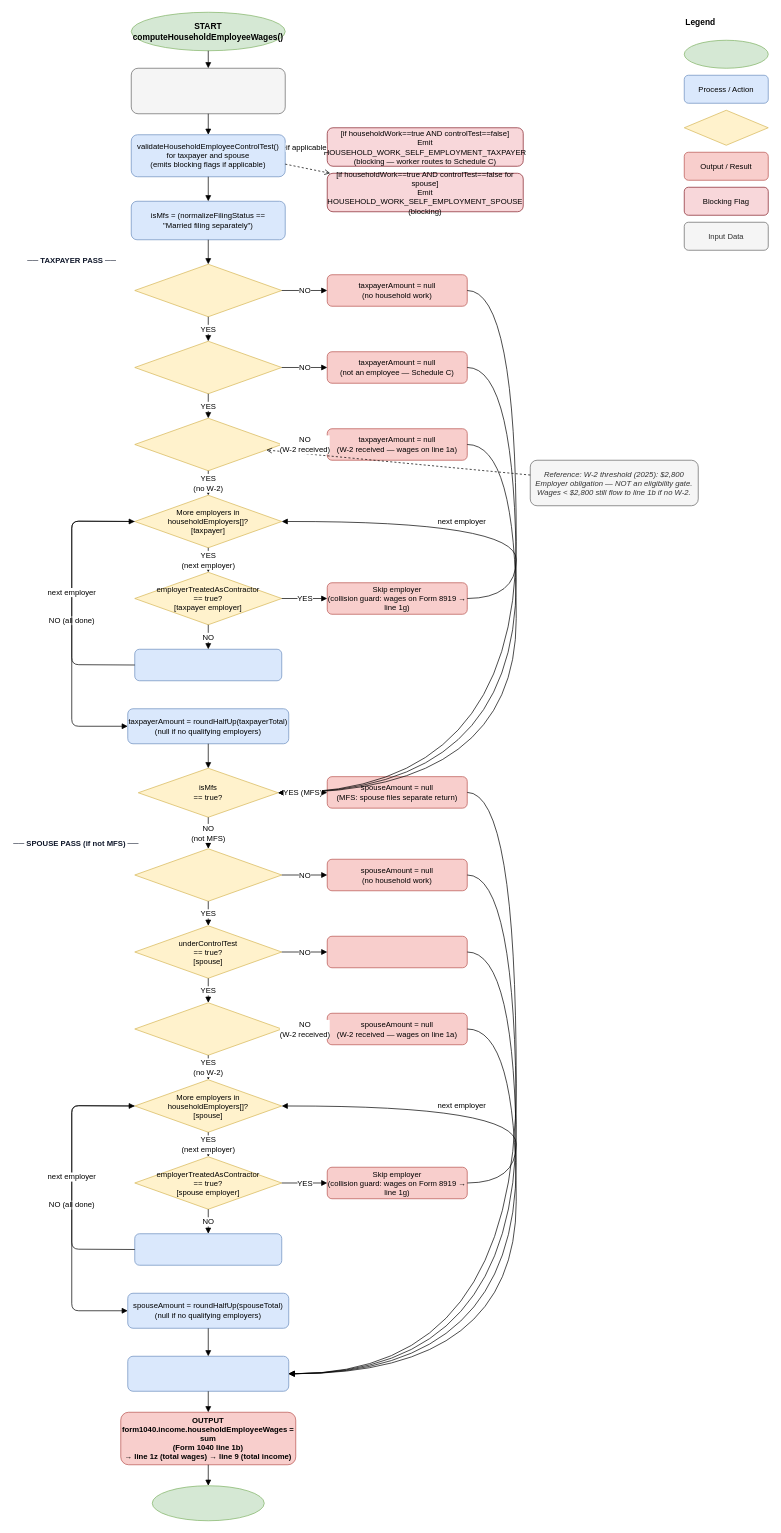
Image size: 781x1533. Some labels were removed from this diagram. The centre of each missing label's shape, as x and y in pixels:
"Decision" goes at point 726,127.
"END" goes at point 208,1503.
"householdWork == true? [spouse]" goes at point 208,874.
"householdWork == true? [taxpayer]" goes at point 208,290.
"Load employment-income-taxpayer, employment-income-spouse, filing-status forms" goes at point 208,91.
"receivedW2 == false? [spouse]" goes at point 208,1028.
"receivedW2 == false? [taxpayer]" goes at point 208,444.
"spouseAmount = null (not an employee — Schedule C)" goes at point 397,952.
"spouseTotal += employer.wages" goes at point 208,1249.
"Start / End" goes at point 726,54.
"sum = addNonNull(taxpayerAmount, spouseAmount)" goes at point 208,1373.
"taxpayerTotal += employer.wages" goes at point 208,665.
"underControlTest == true? [taxpayer]" goes at point 208,367.
